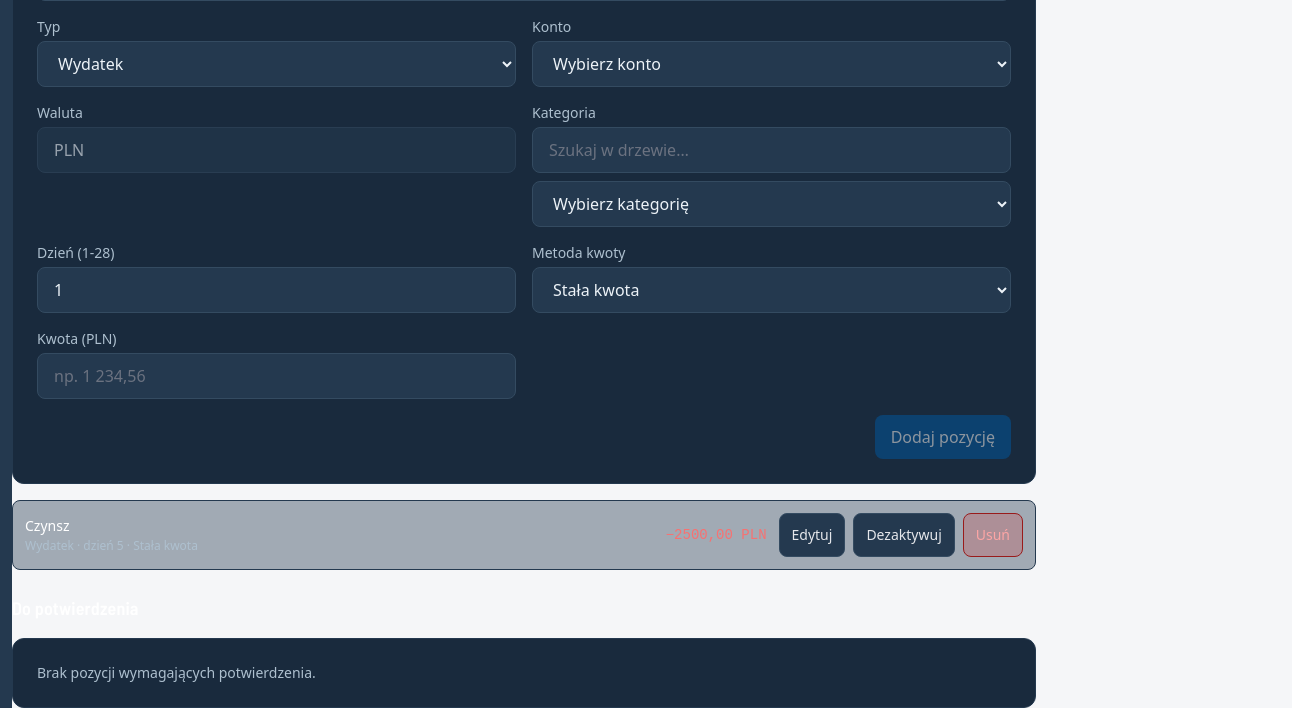
Scenario: FinanceCashflow › wypełnia pola formularza przy przejściu z trybu tworzenia do edycji
(page scrolled)
Click the button "Edytuj": coordinates (812, 535) 778,513 -> 845,557
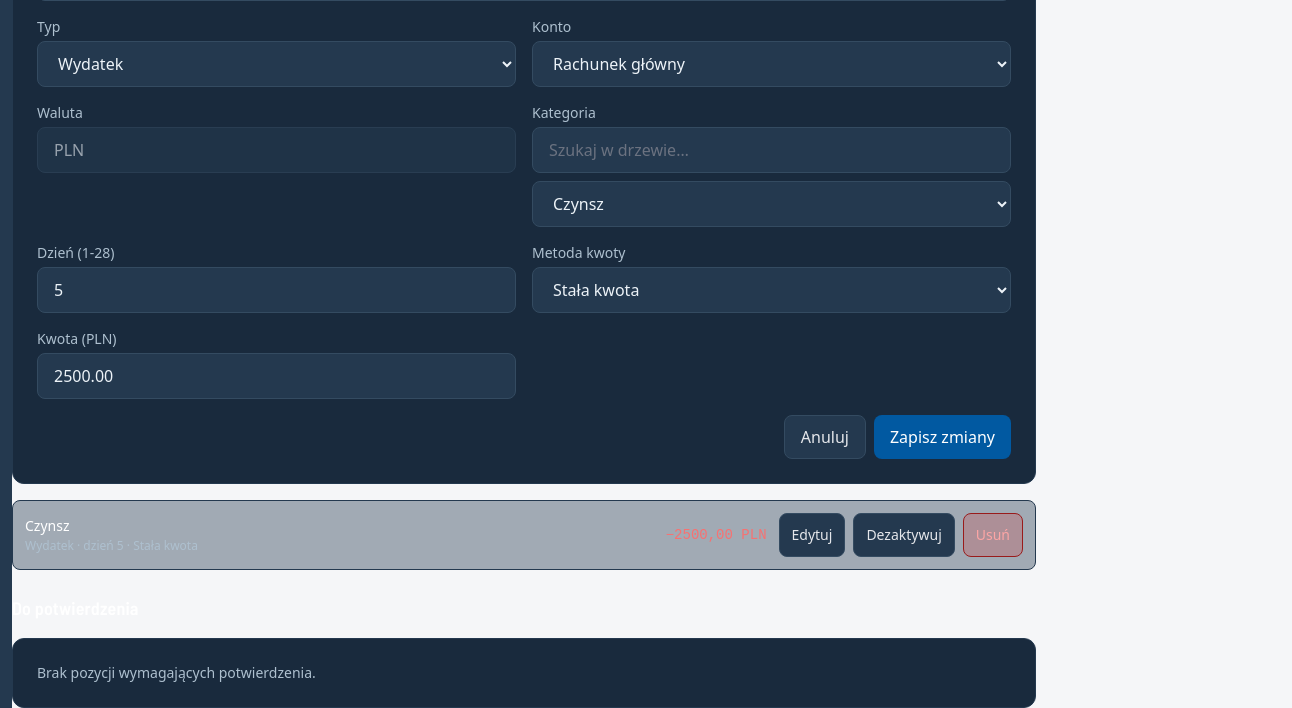
Expected: the number field labelled "Dzień (1-28)" holds "5", 37,267 -> 516,313
Expected: the field labelled "Kwota (PLN)" holds "2500.00", 37,353 -> 516,399
Expected: the button "Zapisz zmiany" is shown, 874,415 -> 1011,459
